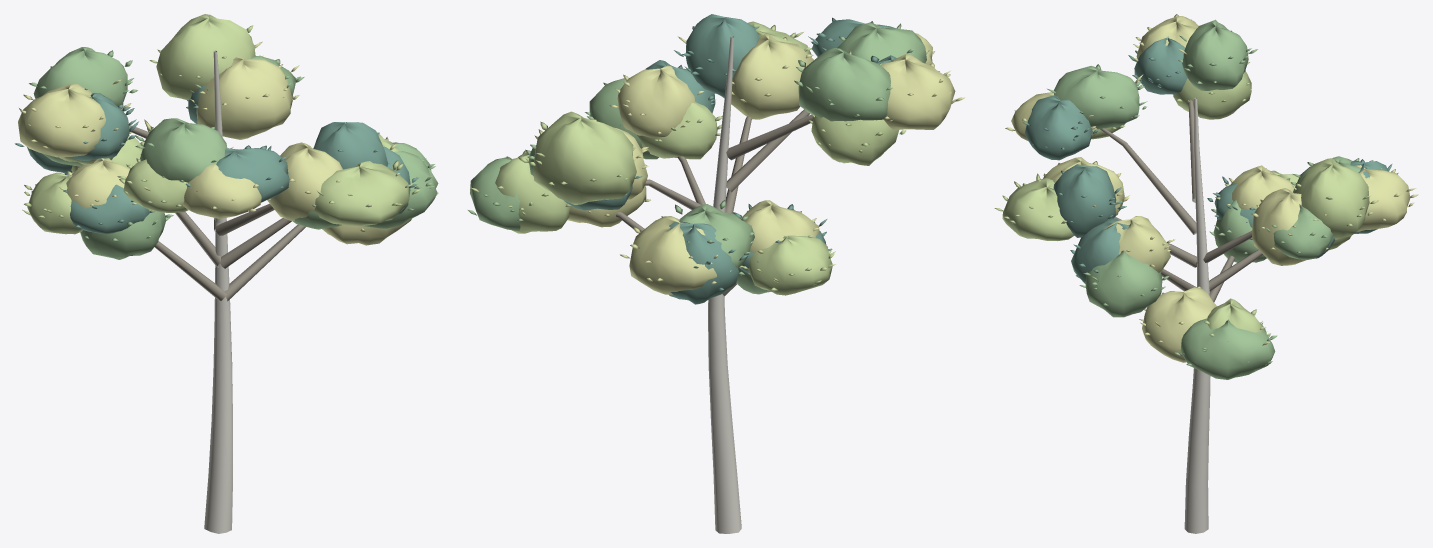
The model's file is birch_twin.glb.
The picture shows the model from 3 angles, left to right: view 1: azimuth 30°, elevation 25°; view 2: azimuth 150°, elevation 25°; view 3: azimuth 270°, elevation 25°; orthographic projection. The views are drawn at different scales.
Visible parts, largest first — view 1: birch_twin; view 2: birch_twin; view 3: birch_twin.
Part boxes in pixels (x1,y1,x2,y2): birch_twin: [15, 14, 438, 533]; birch_twin: [468, 14, 964, 533]; birch_twin: [994, 14, 1418, 533].
Bounding box in the file's own units: 8.13 × 8.94 × 7.67.
